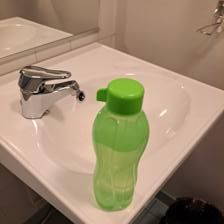bottle: (85, 77, 147, 209)
